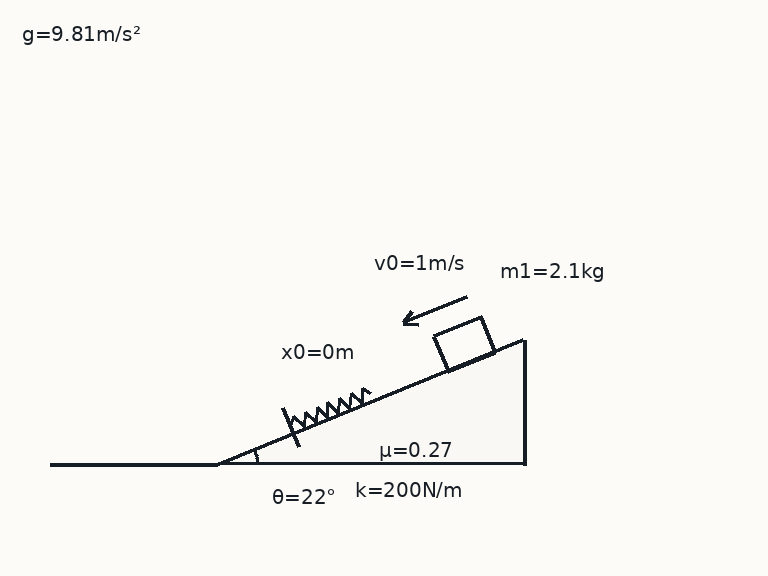block: (431, 315, 497, 373)
ramp: (215, 338, 526, 466)
spring: (288, 386, 372, 429)
